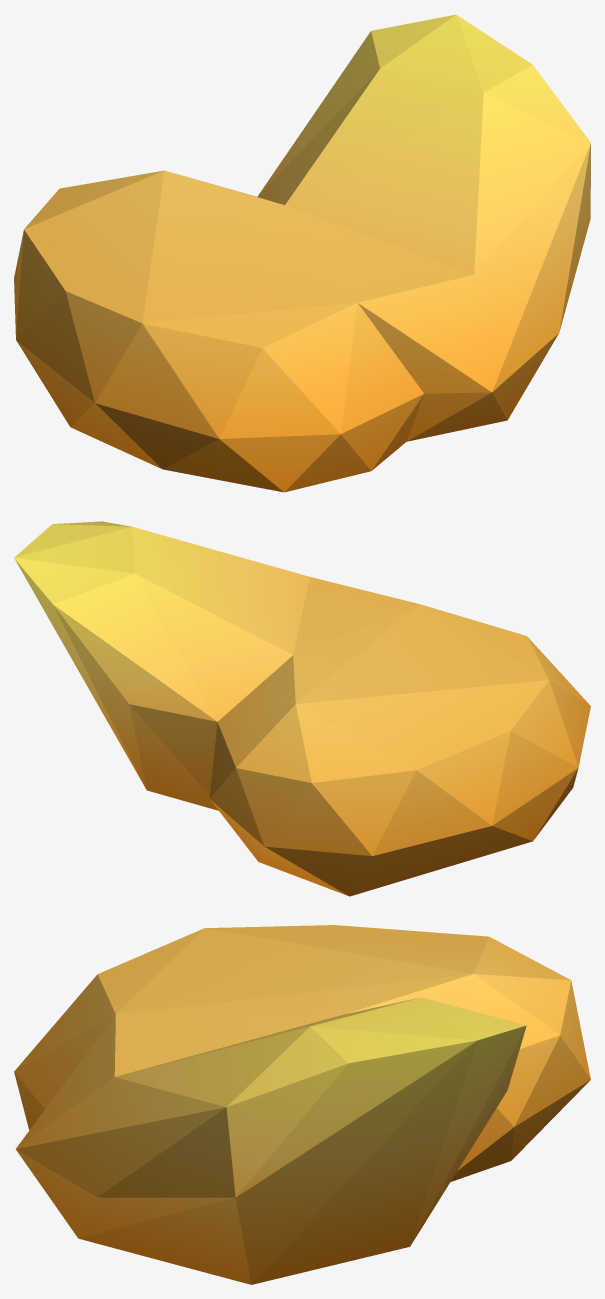
The model's file is SM_Rock_1.fbx.
The picture shows the model from 3 angles, top to bottom: view 1: azimuth 30°, elevation 25°; view 2: azimuth 150°, elevation 25°; view 3: azimuth 270°, elevation 25°; orthographic projection. The views are drawn at different scales.
Parts seen in each view (by area): view 1: Rock_1; view 2: Rock_1; view 3: Rock_1.
Part boxes in pixels (x1,y1,x2,y2): Rock_1: [14, 14, 590, 492]; Rock_1: [14, 521, 590, 896]; Rock_1: [14, 925, 590, 1284].
Size of the model in its own units: 505 by 234 by 456.
